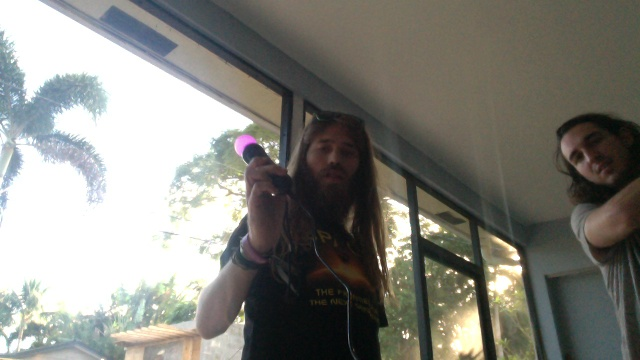wand: (234, 134, 256, 156)
